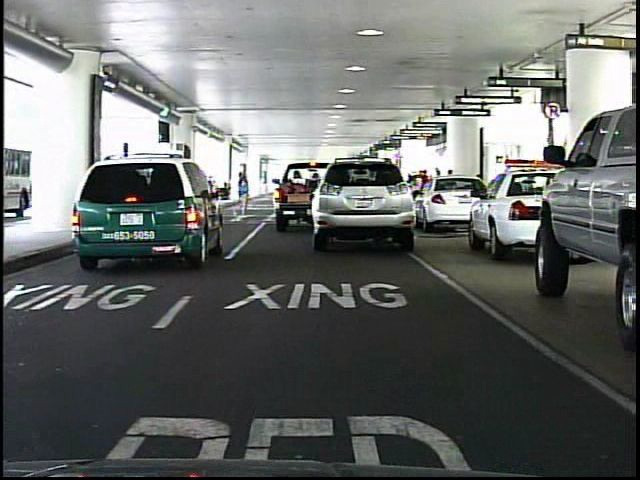person: (233, 168, 257, 223)
